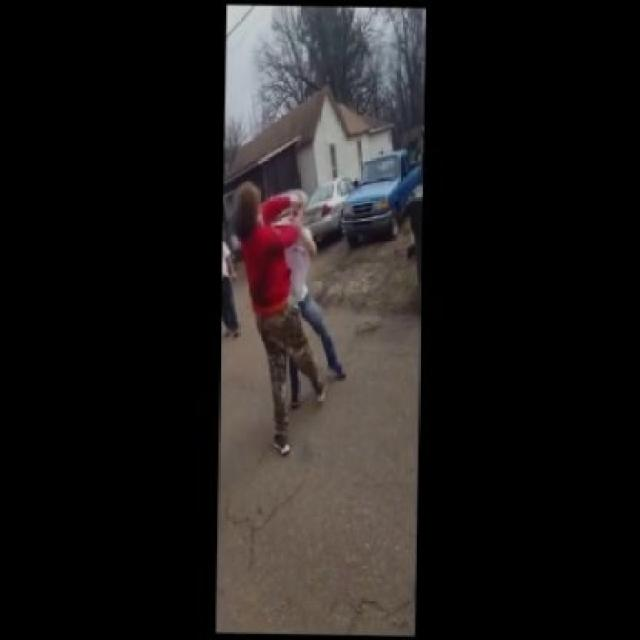fight: (217, 168, 357, 463)
